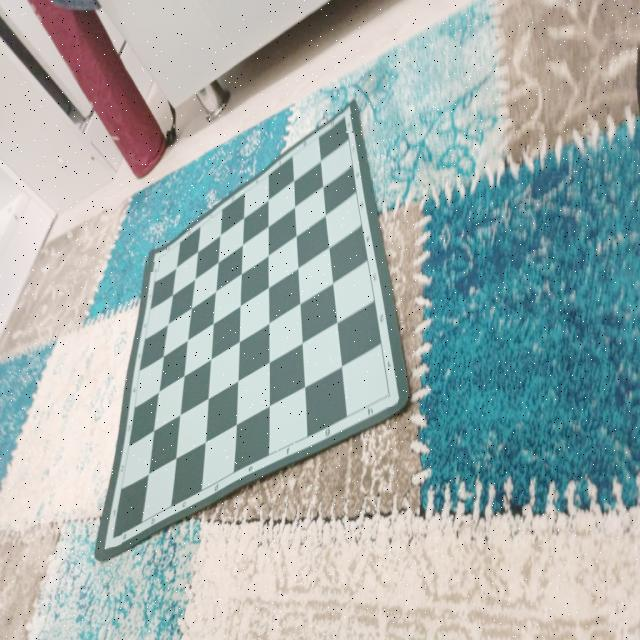corner: (145, 245, 167, 272), (335, 105, 356, 133), (104, 523, 122, 547), (381, 382, 398, 407)
